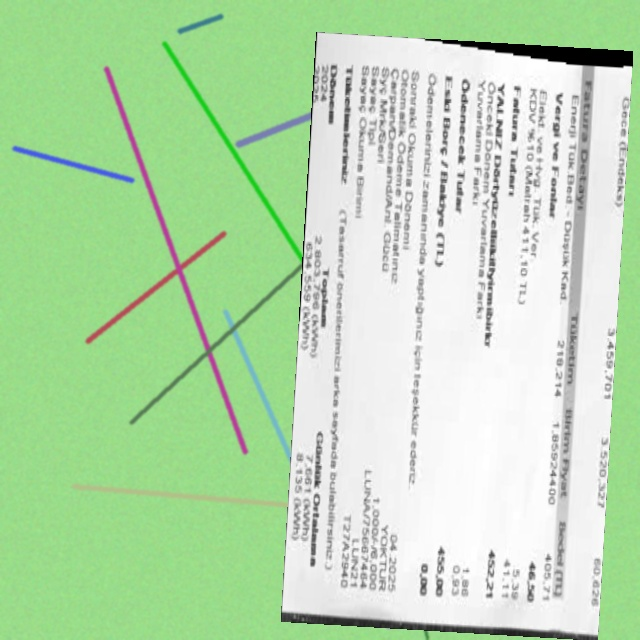electricity-bill: (280, 32, 632, 640)
